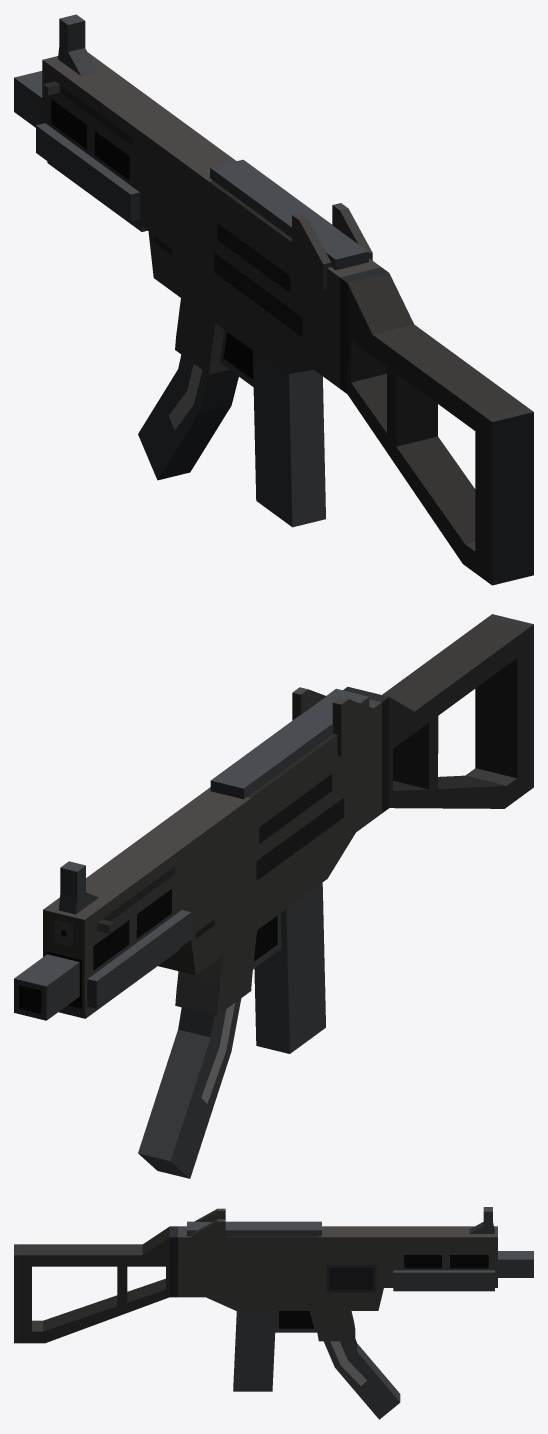
The model's file is Wep_UMP45.fbx.
3 views of the same model, one above another, from view 1: azimuth 30°, elevation 25°; view 2: azimuth 150°, elevation 25°; view 3: azimuth 270°, elevation 25° (orthographic). The views are drawn at different scales.
Parts seen in each view (by area): view 1: Wep_UMP45; view 2: Wep_UMP45; view 3: Wep_UMP45.
Boxes of the visible parts, x1=… form: Wep_UMP45: x1=14, y1=14, x2=533, y2=585; Wep_UMP45: x1=14, y1=614, x2=533, y2=1178; Wep_UMP45: x1=14, y1=1207, x2=533, y2=1419.
Size of the model in its own units: 20.12 by 117 by 267.
